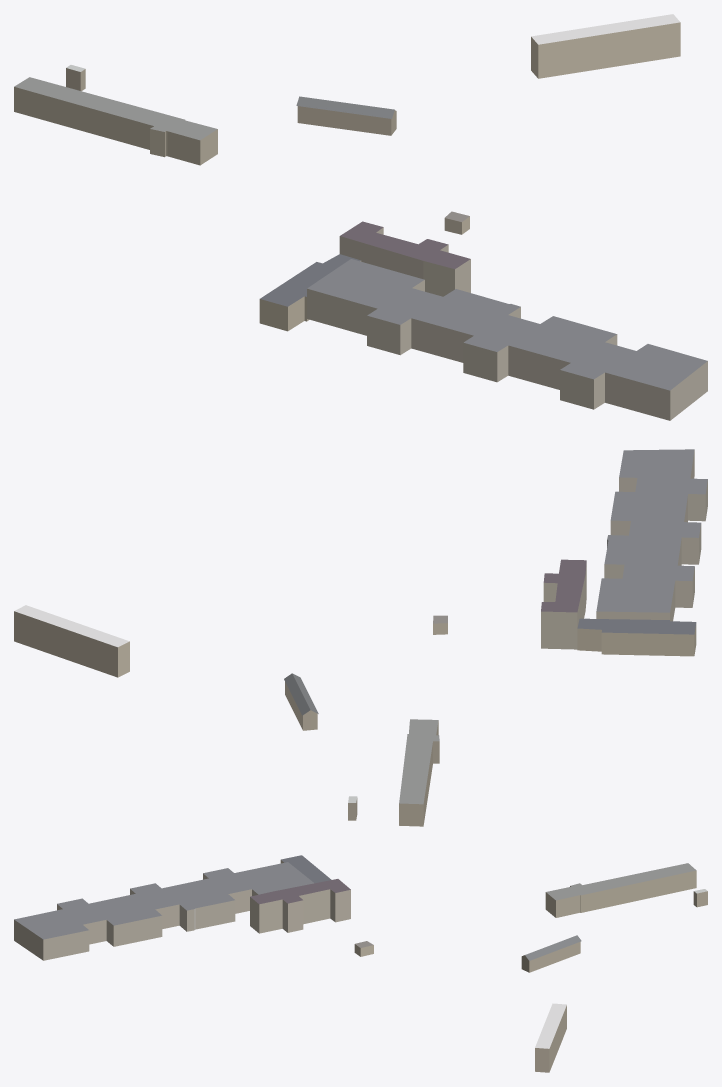
3 renders of one model, top to bottom at view 1: azimuth 30°, elevation 25°; view 2: azimuth 150°, elevation 25°; view 3: azimuth 270°, elevation 25°, orthographic. The views are drawn at different scales.
Parts seen in each view (by area): view 1: tuile; view 2: tuile; view 3: tuile.
Boxes of the visible parts, left/top/right/bottom form: tuile: left=14, top=14, right=707, bottom=420; tuile: left=14, top=449, right=707, bottom=826; tuile: left=14, top=855, right=707, bottom=1072.
Bounding box in the file's own units: 211 × 14.56 × 306.
